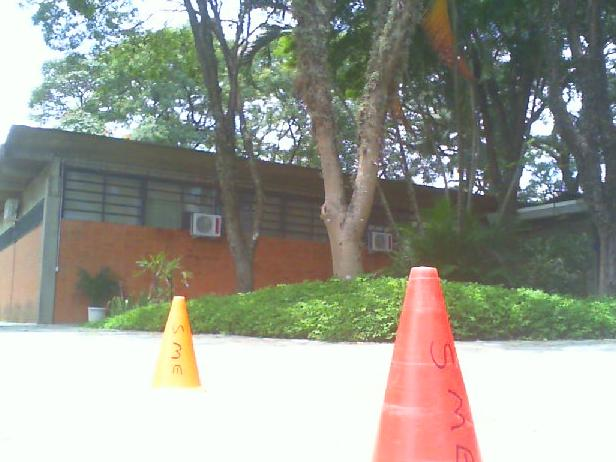0 cone: (370, 267, 485, 462), (151, 296, 202, 393)
